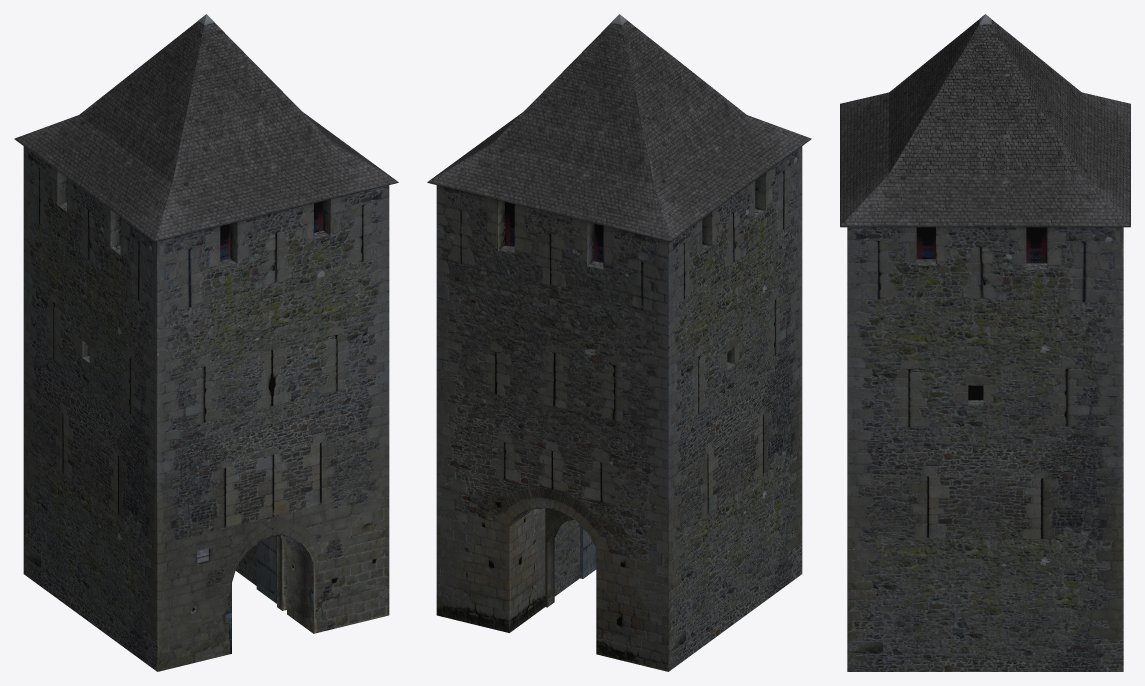
3 views of the same model, side by side, from view 1: azimuth 30°, elevation 25°; view 2: azimuth 150°, elevation 25°; view 3: azimuth 270°, elevation 25° (orthographic). The views are drawn at different scales.
Parts seen in each view (by area): view 1: gate; view 2: gate; view 3: gate.
Boxes of the visible parts, box(x1,y1,x2,y2) form: gate: box(14, 14, 398, 671); gate: box(427, 14, 811, 671); gate: box(840, 14, 1130, 671).
Size of the model in its own units: 7.88 by 17.94 by 7.88.
